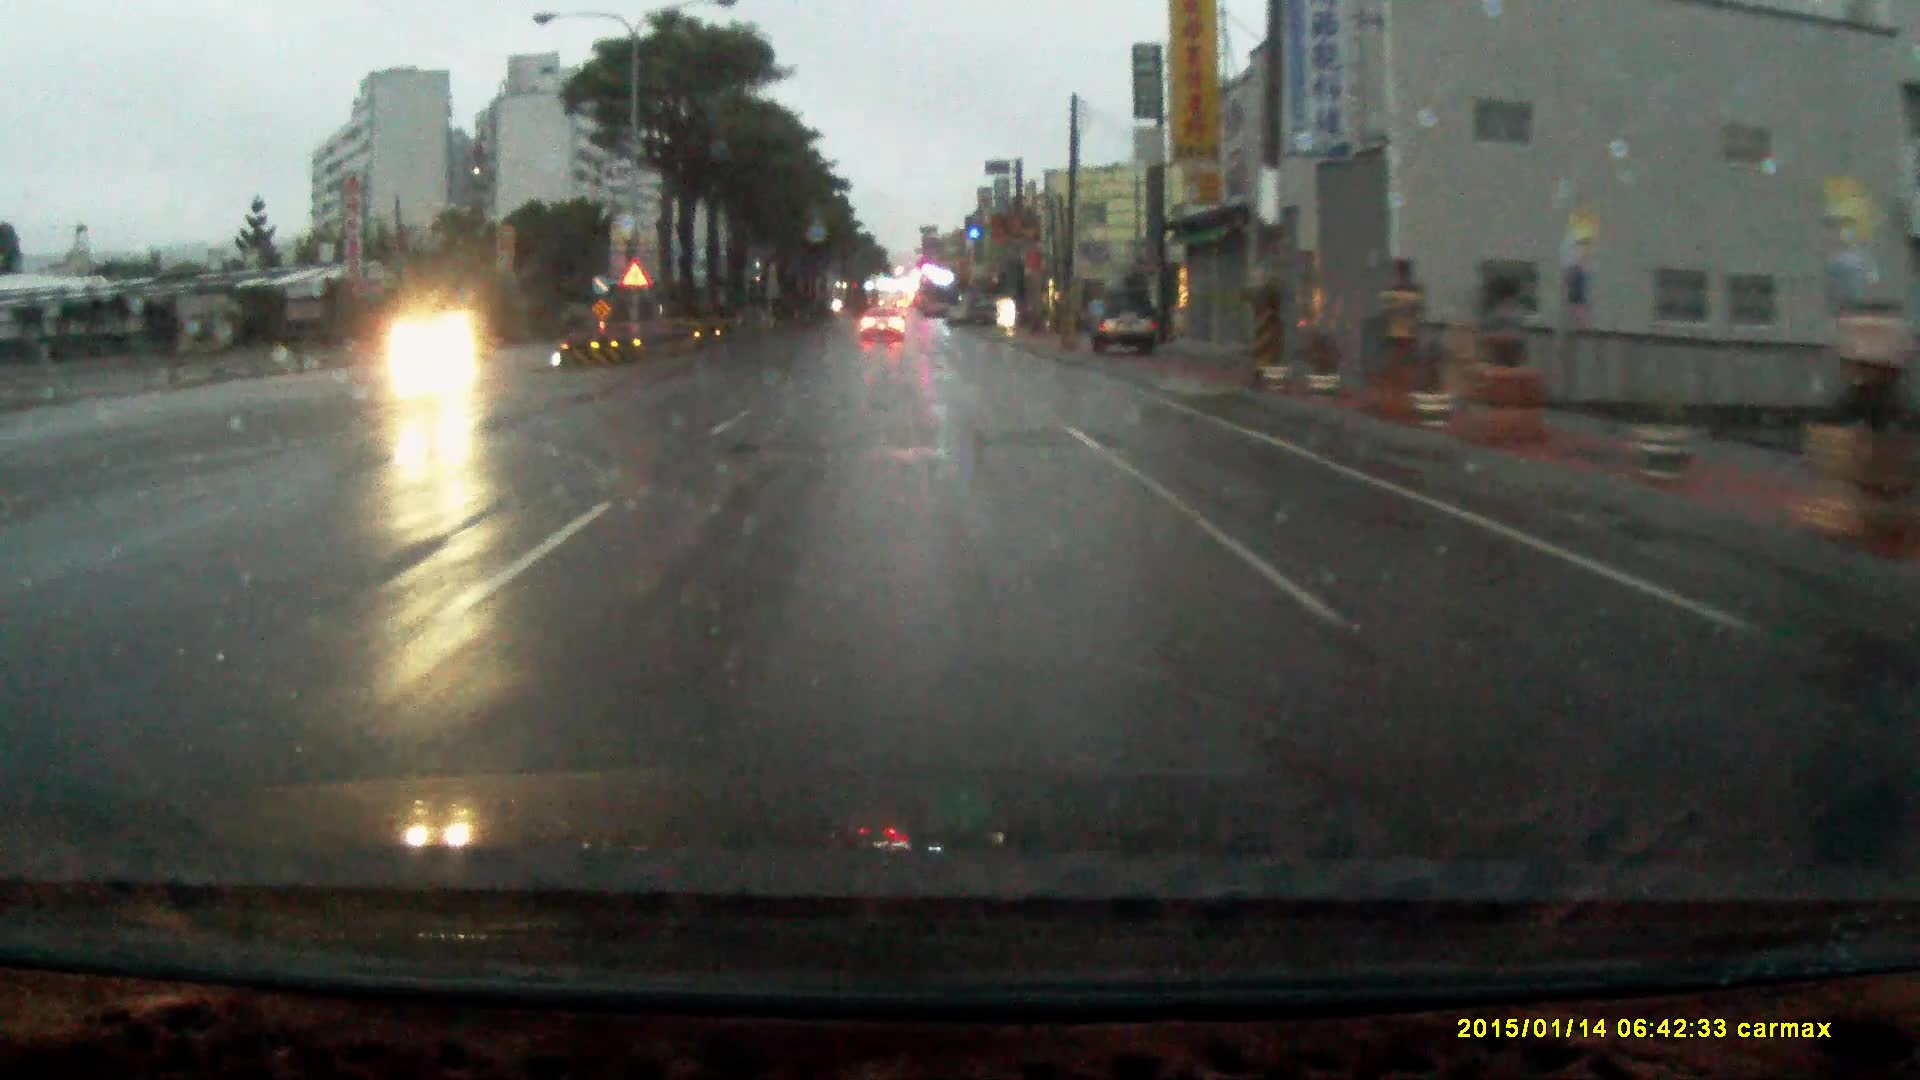vehicle: (1091, 282, 1160, 349), (861, 302, 909, 340)
